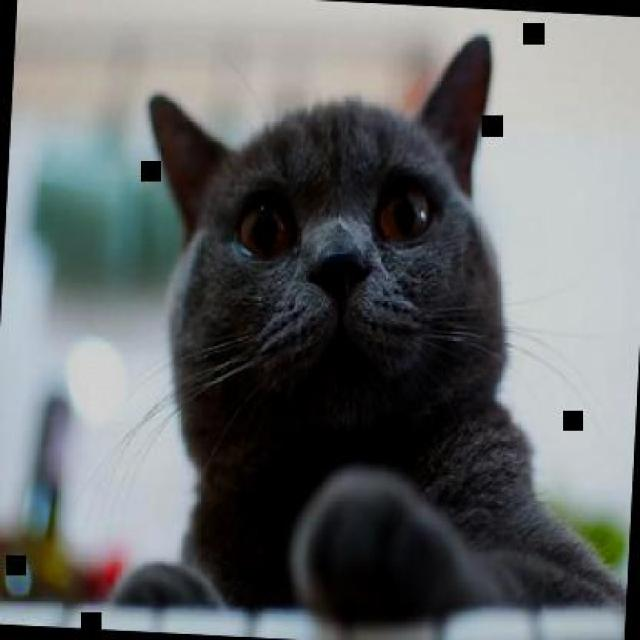cat: (112, 14, 638, 638)
